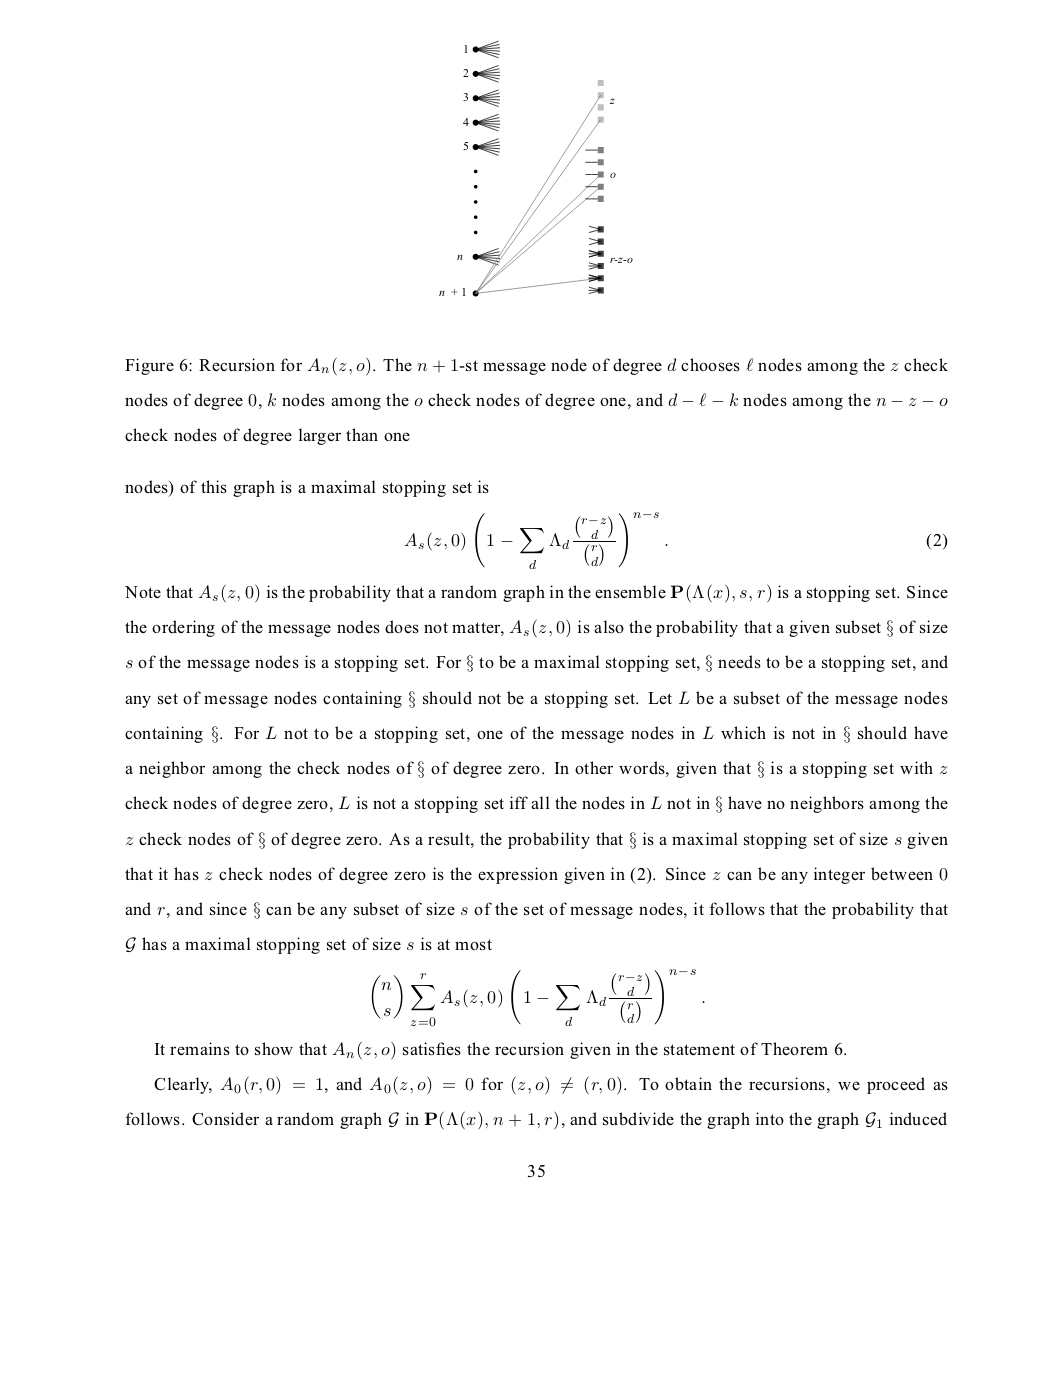figure: (439, 40, 632, 296)
formula: (403, 512, 947, 569), (371, 968, 704, 1028)
